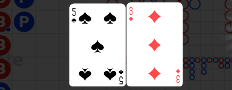3D: (127, 5, 134, 22)
5C: (70, 7, 77, 24)
